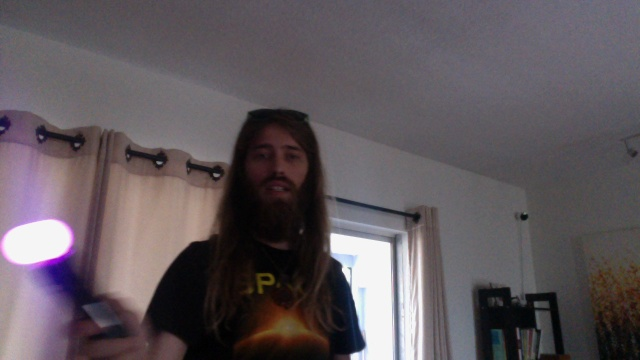wand: (2, 219, 74, 267)
